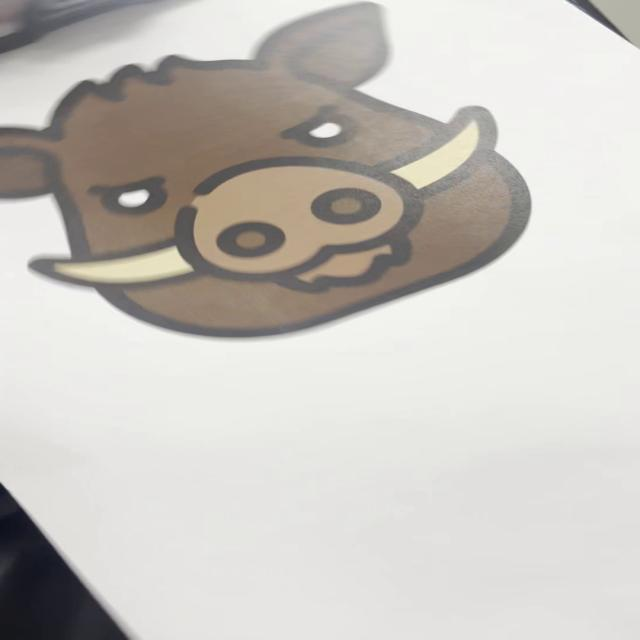animal: (1, 1, 544, 344)
